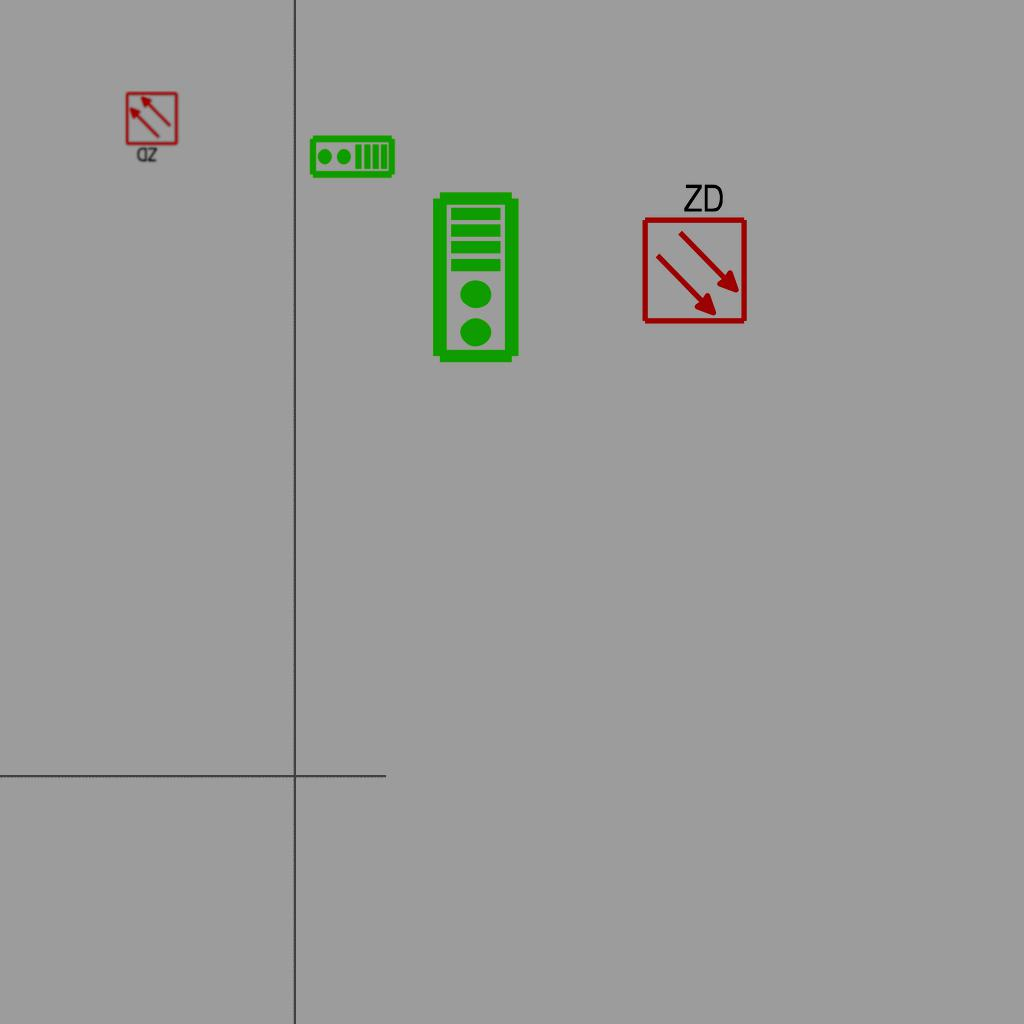Gegensprechanlage_mit_Video: (430, 190, 525, 366), (308, 134, 396, 181)
ZD_Melder_in_Zwischendecke_mit_Revisionsoeffnung_mind_40_x_40_cm: (636, 177, 750, 326), (124, 91, 181, 165)
